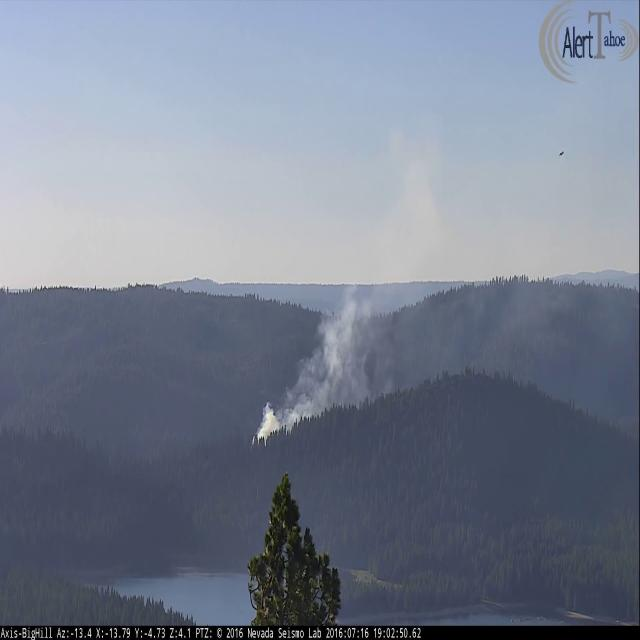smoke: (248, 120, 628, 442)
